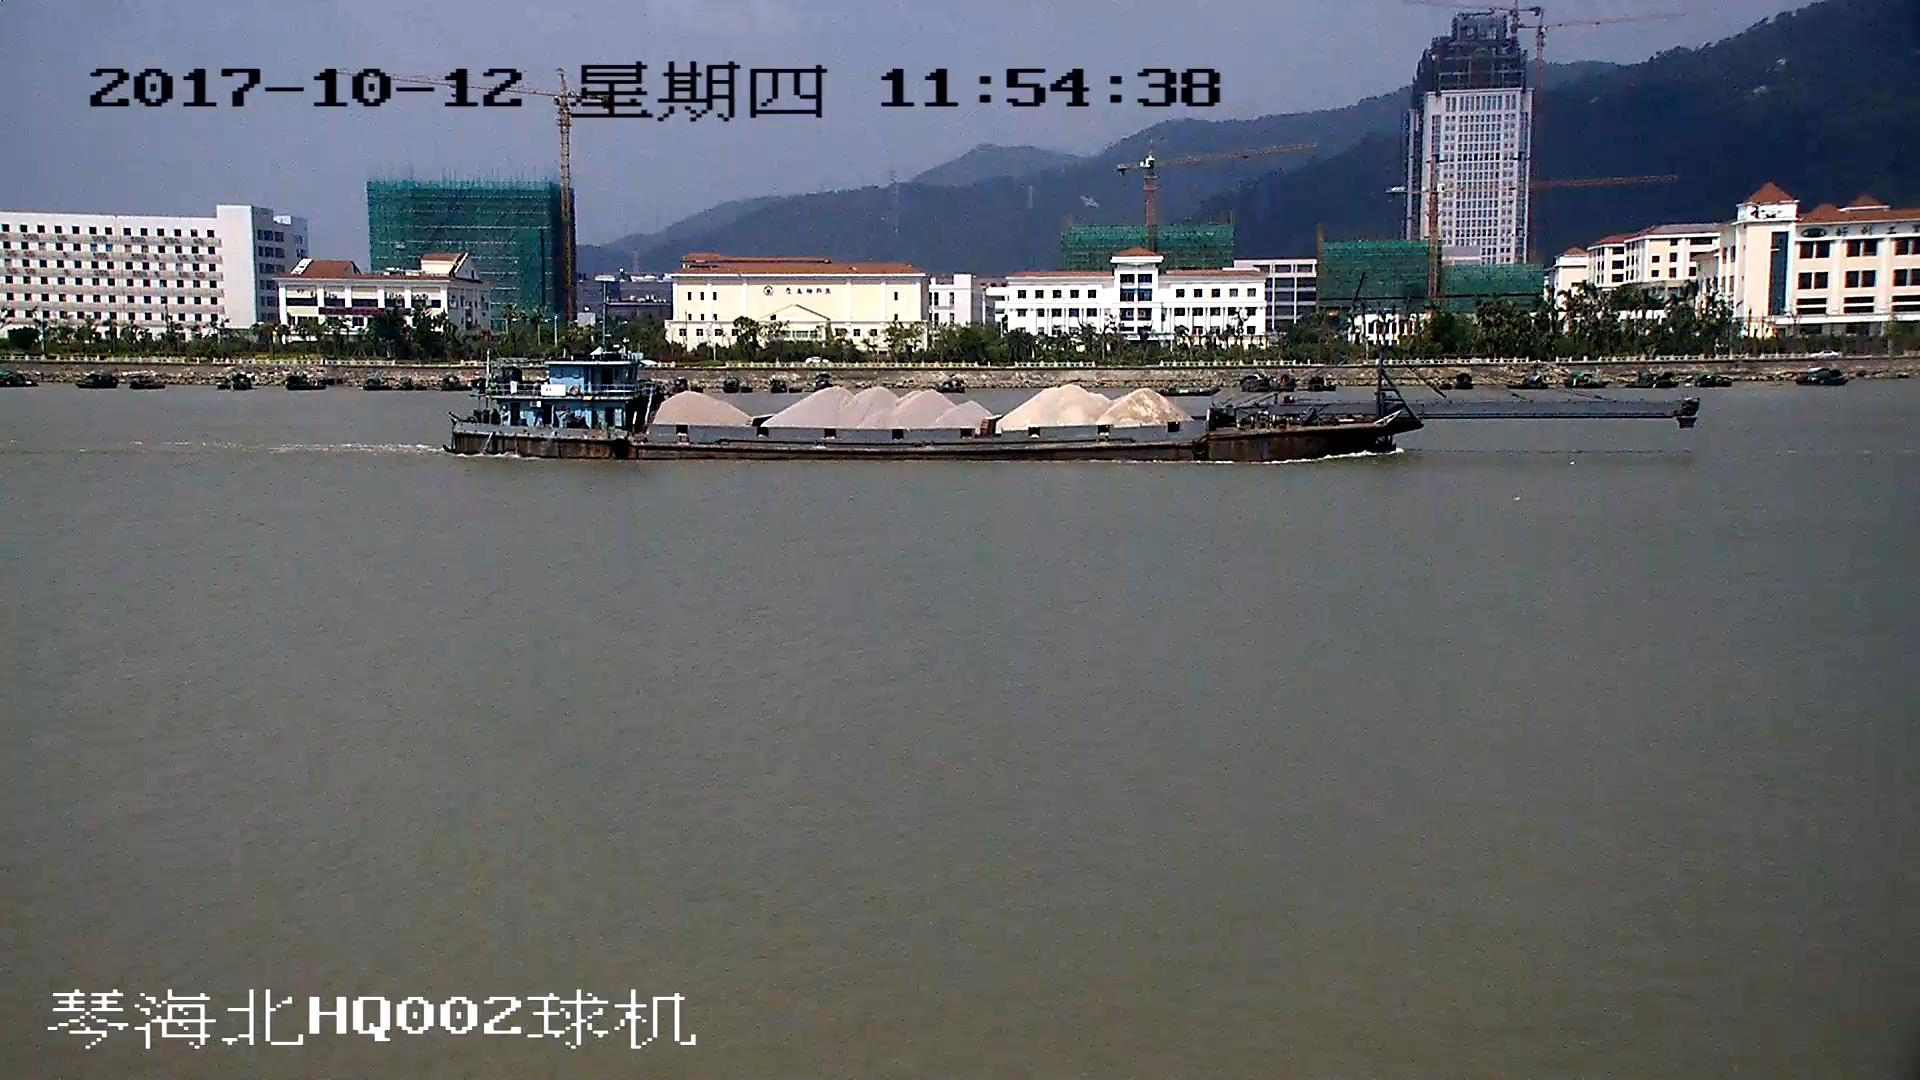Ship: (456, 338, 1701, 465)
